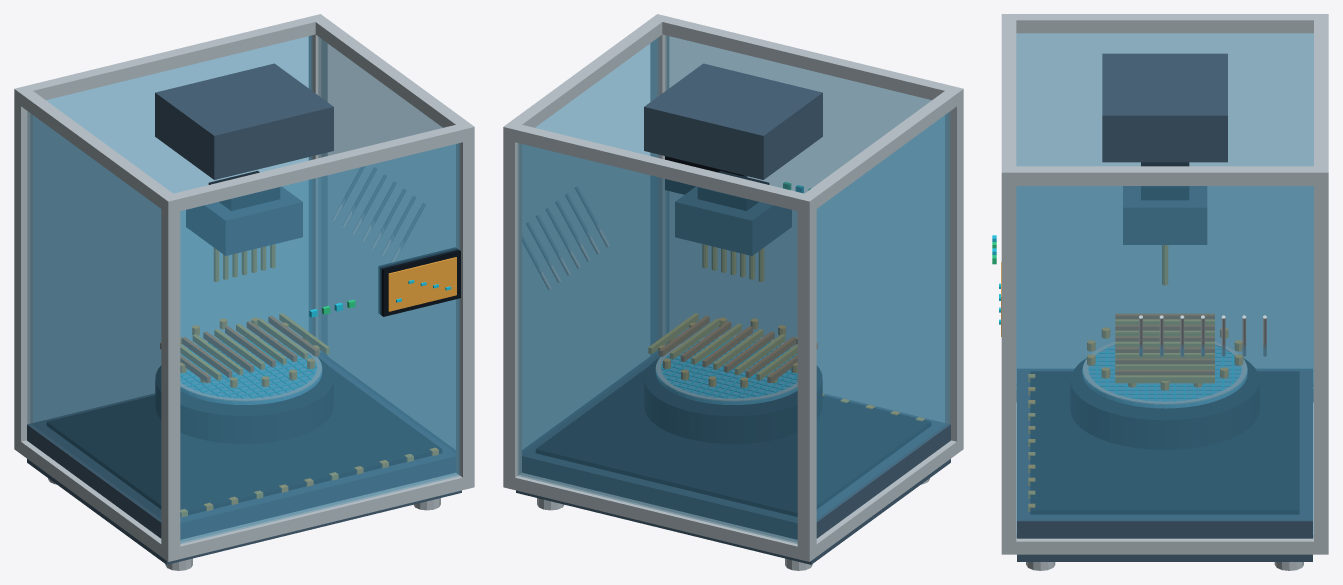
The model's file is 52_L79_CrossDieKelvinResistanceProbe.fbx.
3 renders of one model, left to right at view 1: azimuth 30°, elevation 25°; view 2: azimuth 150°, elevation 25°; view 3: azimuth 270°, elevation 25°, orthographic. The views are drawn at different scales.
Visible parts, largest first — view 1: CrossDieKelvinResistanceProbe, CrossDieKelvinResistanceProbe_Part_0107, CrossDieKelvinResistanceProbe_Part_0115; view 2: CrossDieKelvinResistanceProbe, CrossDieKelvinResistanceProbe_Part_0107, CrossDieKelvinResistanceProbe_Part_0115; view 3: CrossDieKelvinResistanceProbe, CrossDieKelvinResistanceProbe_Part_0107, CrossDieKelvinResistanceProbe_Part_0115.
Boxes of the visible parts, x1=… form: CrossDieKelvinResistanceProbe: x1=14, y1=14, x2=474, y2=570; CrossDieKelvinResistanceProbe_Part_0107: x1=186, y1=186, x2=302, y2=255; CrossDieKelvinResistanceProbe_Part_0115: x1=208, y1=170, x2=279, y2=210; CrossDieKelvinResistanceProbe: x1=503, y1=14, x2=963, y2=570; CrossDieKelvinResistanceProbe_Part_0107: x1=675, y1=186, x2=791, y2=255; CrossDieKelvinResistanceProbe_Part_0115: x1=698, y1=170, x2=769, y2=210; CrossDieKelvinResistanceProbe: x1=992, y1=14, x2=1328, y2=570; CrossDieKelvinResistanceProbe_Part_0107: x1=1123, y1=186, x2=1206, y2=244; CrossDieKelvinResistanceProbe_Part_0115: x1=1141, y1=162, x2=1189, y2=199.
Bounding box in the file's own units: 230 × 267 × 195.
